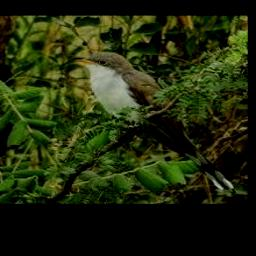Cuckoo: (69, 52, 235, 191)
